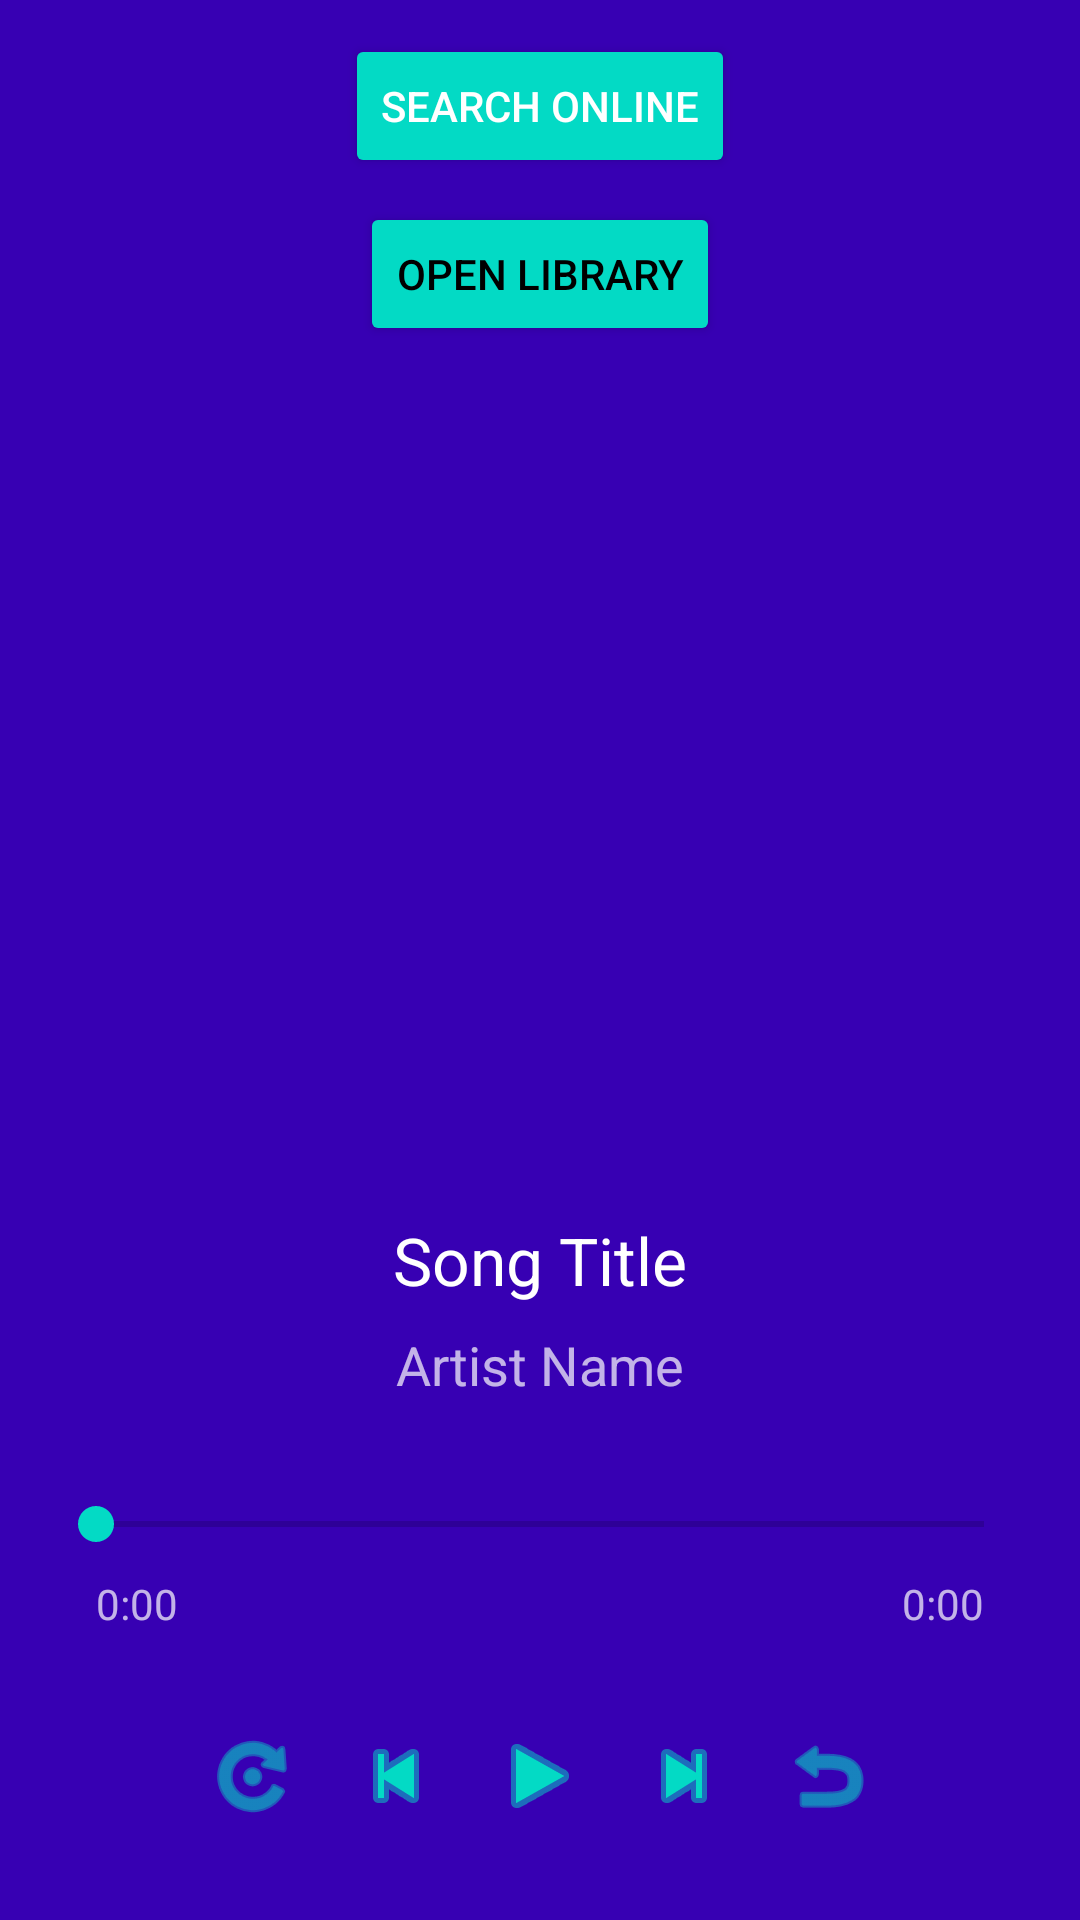

Screen size 1080w x 1920h. Icon name, then its center in pixels as (x,y):
next: (684,1776)
play: (540,1776)
previous: (396,1776)
revert: (829,1776)
rotate: (252,1776)
